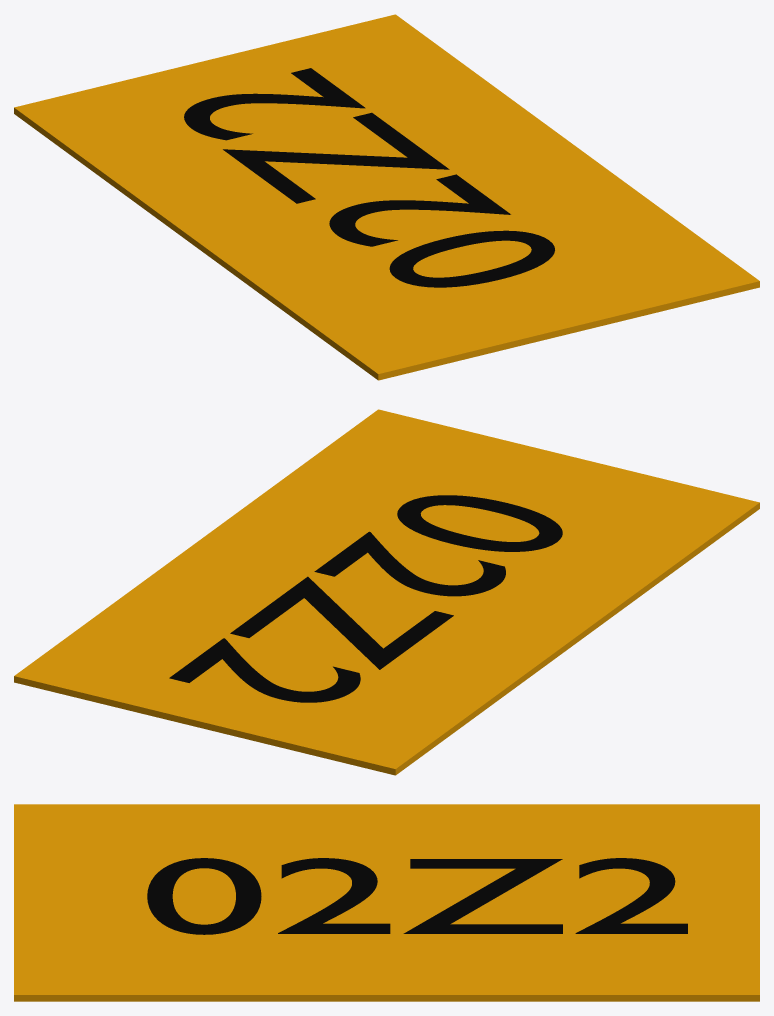
The picture shows the model from 3 angles, top to bottom: view 1: azimuth 30°, elevation 25°; view 2: azimuth 150°, elevation 25°; view 3: azimuth 270°, elevation 25°; orthographic projection. The views are drawn at different scales.
Parts seen in each view (by area): view 1: Plane, Text.001; view 2: Plane, Text.001; view 3: Plane, Text.001.
Part boxes in pixels (x1=…): Plane: x1=14, y1=14, x2=759, y2=380; Text.001: x1=184, y1=68, x2=554, y2=287; Plane: x1=14, y1=409, x2=759, y2=775; Text.001: x1=169, y1=495, x2=562, y2=702; Plane: x1=14, y1=804, x2=759, y2=1001; Text.001: x1=147, y1=858, x2=687, y2=934.
Size of the model in its own units: 194 by 3.74 by 320.
